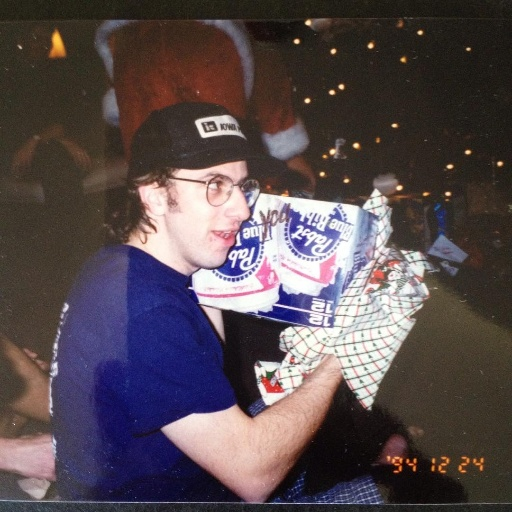hand: (0, 344, 53, 430), (284, 151, 317, 195), (7, 144, 34, 178), (65, 141, 92, 172)
